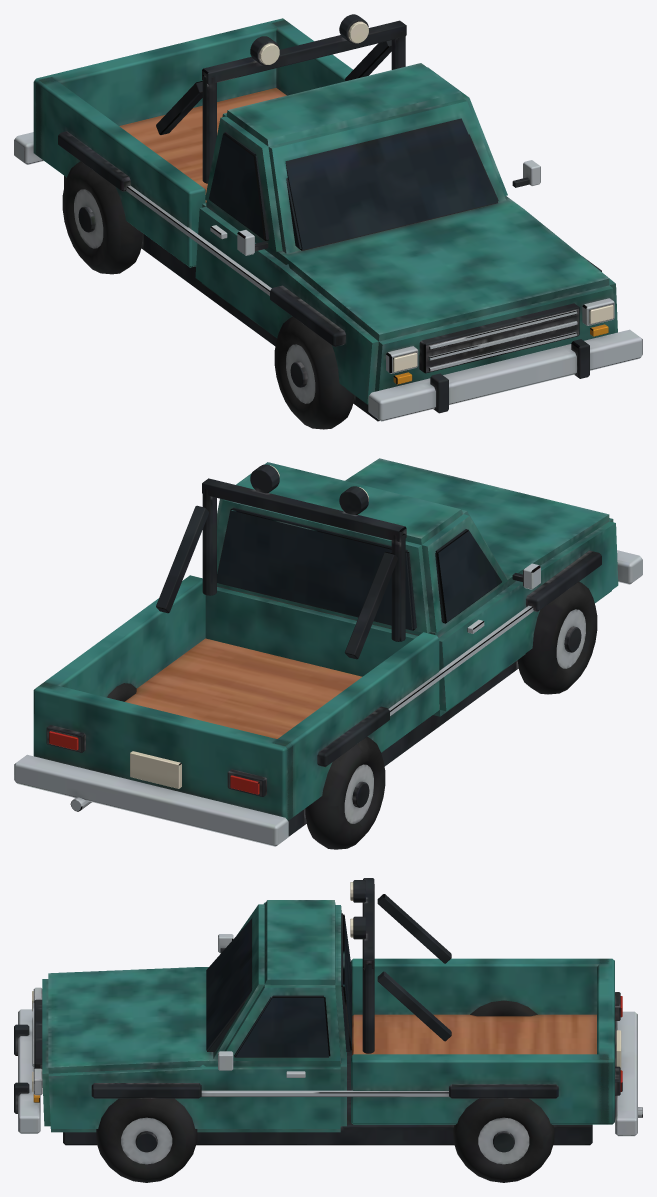
Rendered from car_pickup_rust.glb.
3 views of the same model, one above another, from view 1: azimuth 30°, elevation 25°; view 2: azimuth 150°, elevation 25°; view 3: azimuth 270°, elevation 25° (orthographic). The views are drawn at different scales.
Parts seen in each view (by area): view 1: CarPickupRust; view 2: CarPickupRust; view 3: CarPickupRust.
Boxes of the visible parts, bbox=[...] form: CarPickupRust: bbox=[14, 14, 642, 429]; CarPickupRust: bbox=[14, 458, 642, 849]; CarPickupRust: bbox=[14, 878, 642, 1182].
Size of the model in its own units: 2.26 by 2.01 by 4.93.
1 material, 1 textured.
